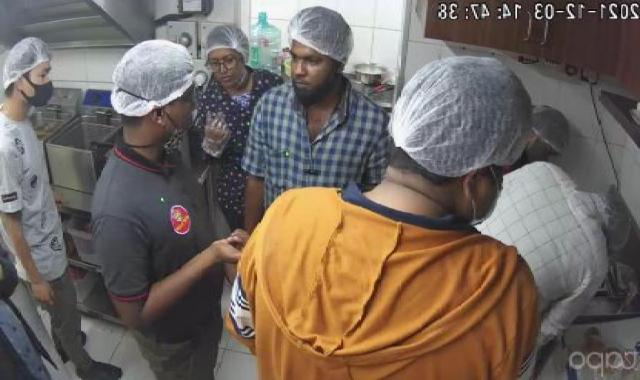hairnet: (387, 52, 538, 183), (100, 40, 200, 120), (276, 2, 362, 68), (590, 177, 640, 258), (0, 33, 62, 94), (528, 100, 582, 156), (193, 23, 261, 66)
